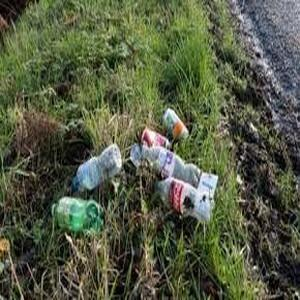Plastic: (73, 139, 123, 195), (159, 176, 211, 224), (139, 145, 200, 185), (49, 197, 102, 236)
